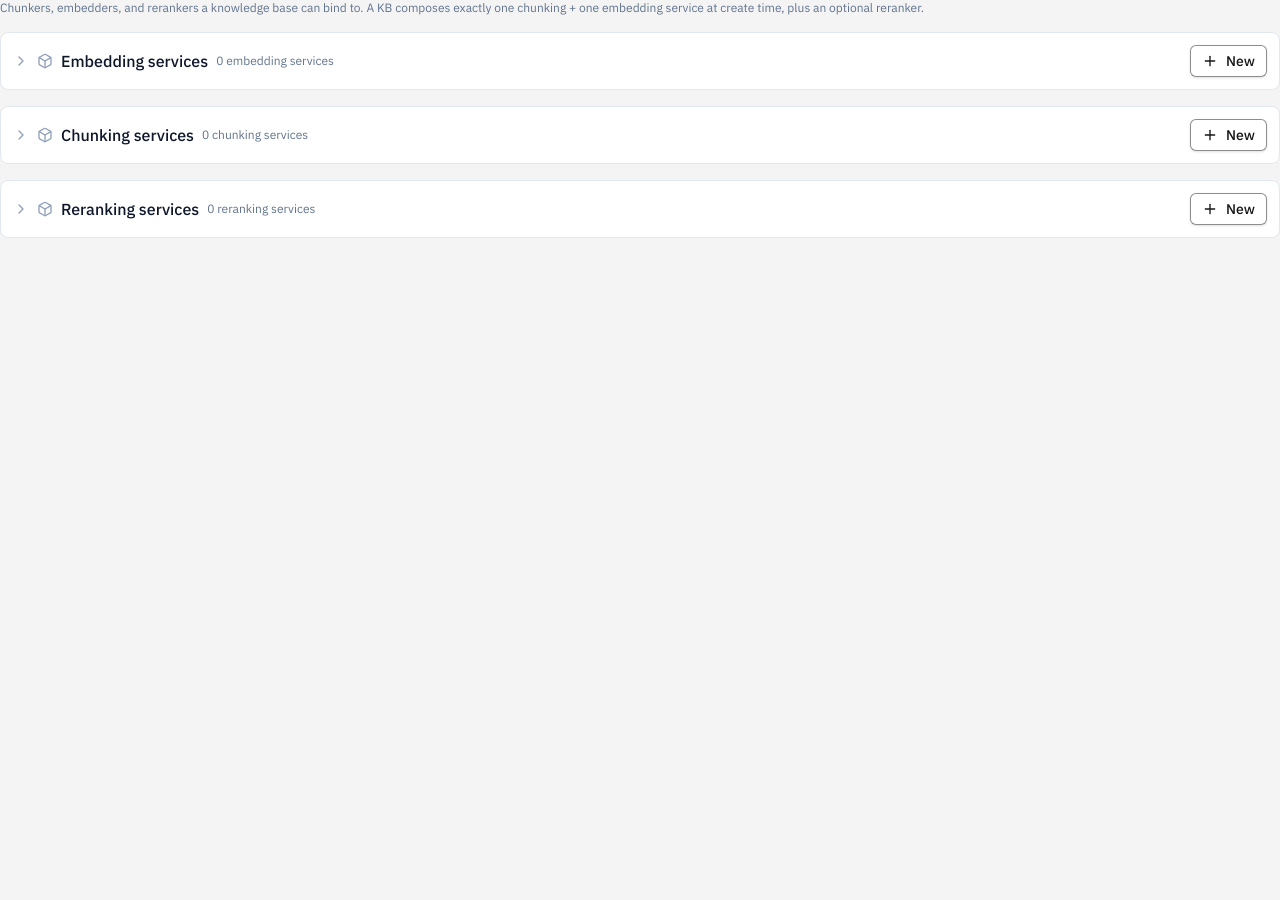
Test case: ServicesPanel › opens the create dialog with the preset picker when 'New' is clicked
The image size is (1280, 900).
Click the 1st button "New" at (1229,61), box [1190, 45, 1267, 77]
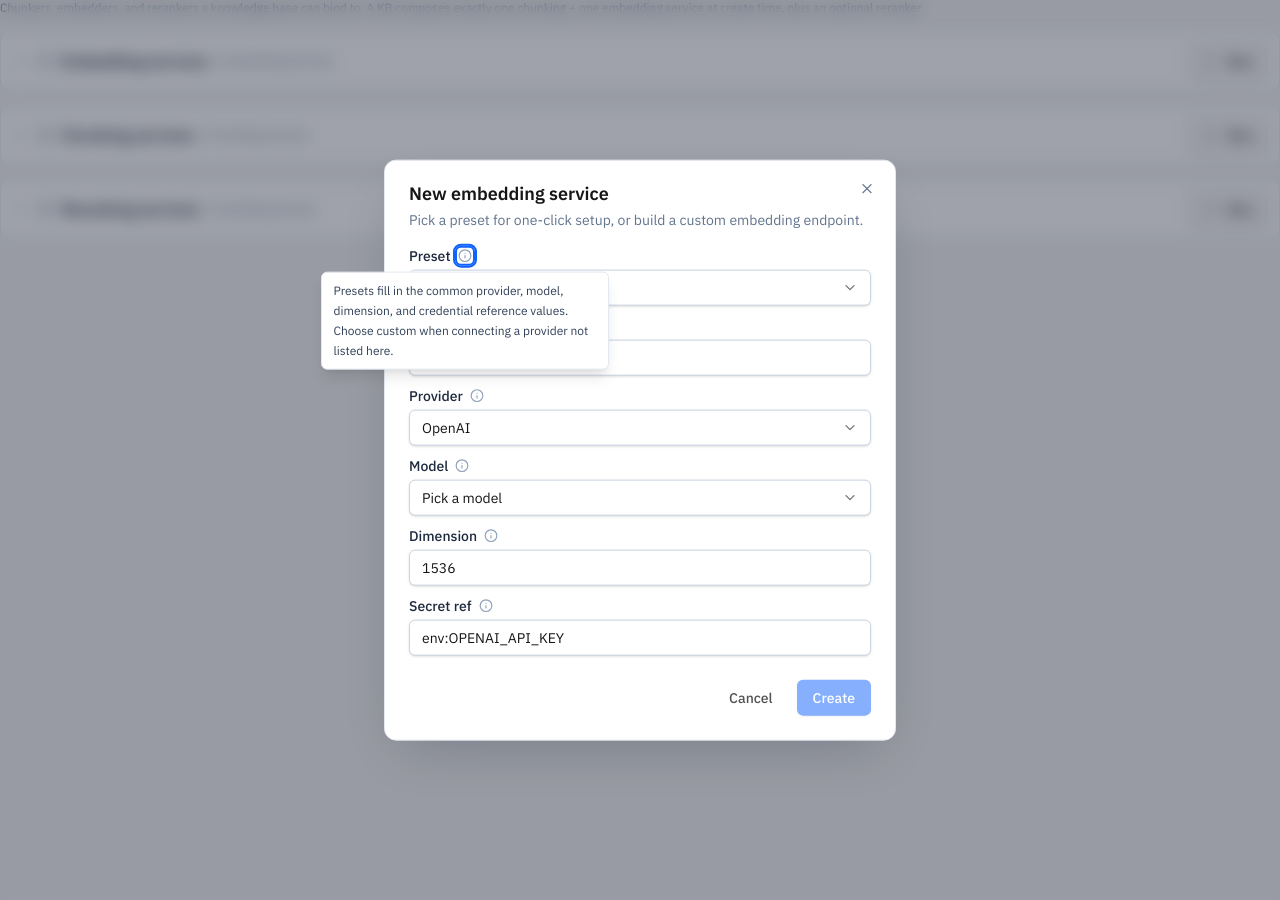
Now the heading "New embedding service" is shown, box [409, 182, 609, 205]
Now the text "Pick a preset" is shown, box [409, 211, 863, 229]
